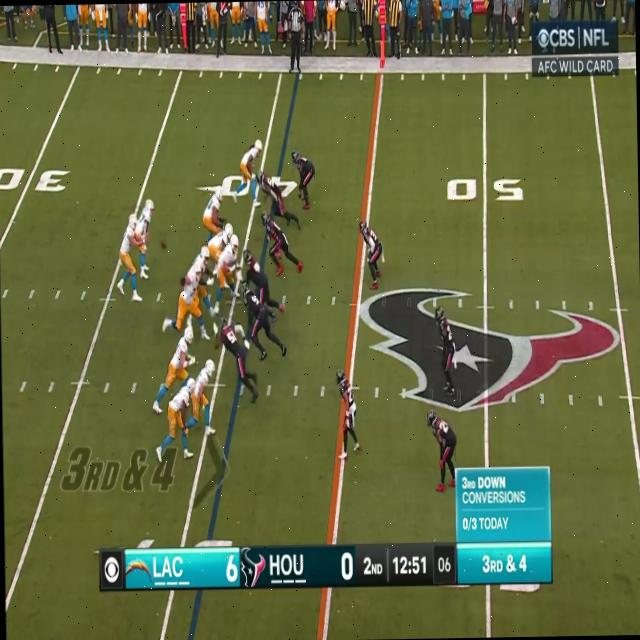Player: (220, 316, 257, 404), (426, 404, 456, 490), (242, 286, 272, 358), (167, 378, 195, 455), (434, 304, 456, 398), (262, 210, 292, 274), (118, 212, 138, 304), (192, 359, 216, 434), (358, 217, 384, 286), (164, 328, 193, 389), (216, 237, 242, 305), (336, 368, 356, 456), (236, 138, 262, 205), (178, 262, 202, 326), (291, 148, 314, 209), (242, 247, 268, 296), (138, 200, 155, 274), (260, 175, 287, 217), (202, 185, 224, 230), (208, 223, 230, 252), (188, 246, 208, 274)
Referee: (288, 0, 304, 72)
